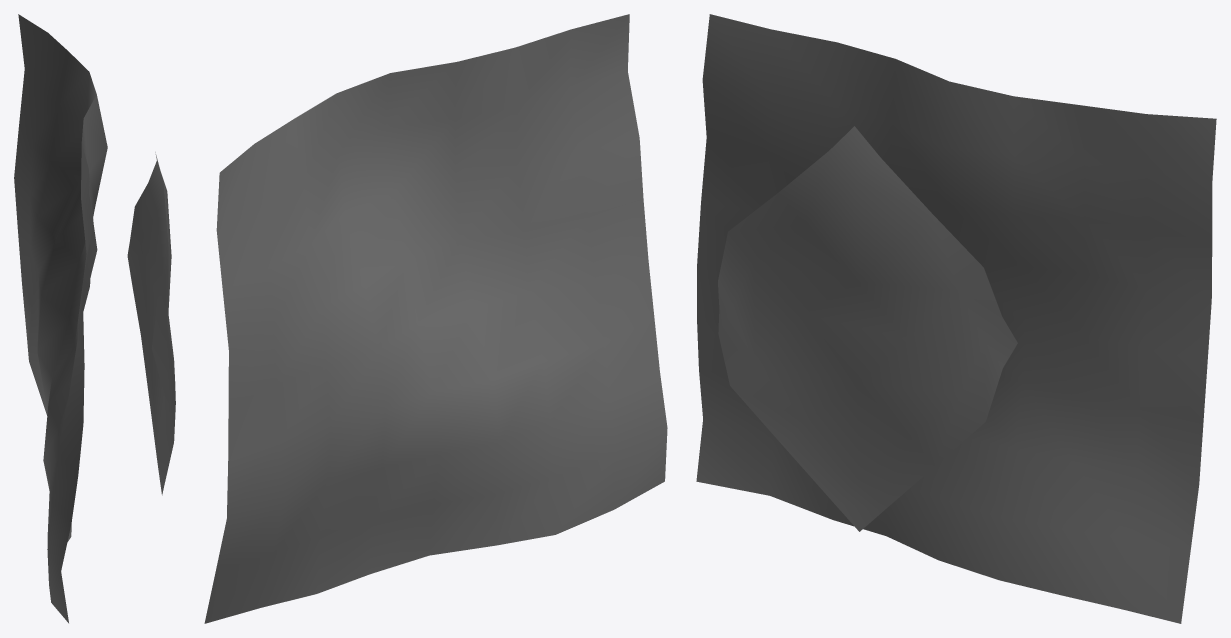
The model's file is spider_web.fbx.
3 views of the same model, side by side, from view 1: azimuth 30°, elevation 25°; view 2: azimuth 150°, elevation 25°; view 3: azimuth 270°, elevation 25° (orthographic). The views are drawn at different scales.
Visible parts, largest first — view 1: Spiderweb2, Spiderweb1; view 2: Spiderweb2; view 3: Spiderweb2, Spiderweb1.
Part boxes in pixels (<box>): Spiderweb2: <box>14,14,107,623</box>; Spiderweb1: <box>127,152,175,495</box>; Spiderweb2: <box>204,14,667,623</box>; Spiderweb2: <box>696,14,1216,623</box>; Spiderweb1: <box>718,126,1017,531</box>.
Bounding box in the file's own units: 134 × 271 × 250.
